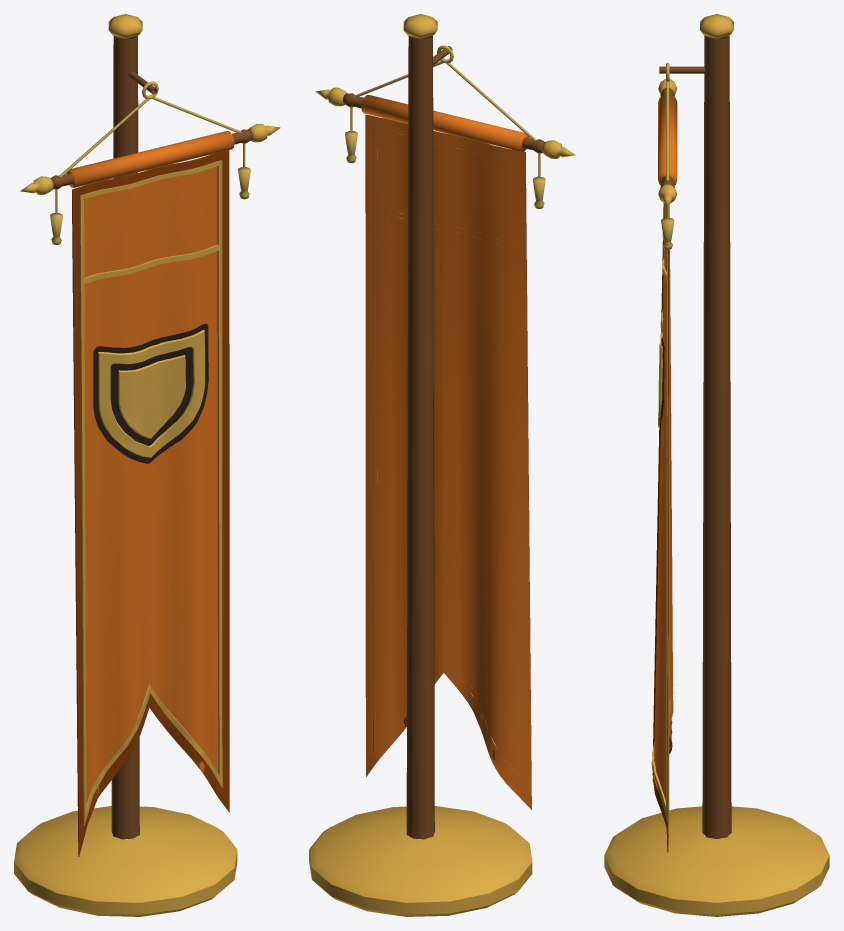
The model's file is km_gonfalon_army-B52A-g0W.glb.
3 views of the same model, side by side, from view 1: azimuth 30°, elevation 25°; view 2: azimuth 150°, elevation 25°; view 3: azimuth 270°, elevation 25° (orthographic).
Visible parts, largest first — view 1: army_cloth, army_stand_foot, army_hem, army_gold_trim, army_sigil_gold, army_stand_pole, army_sigil_backing, army_sleeve, army_cord, army_finials, army_stand_knob, army_tassels; view 2: army_cloth, army_stand_pole, army_stand_foot, army_sleeve, army_hem, army_cord, army_finials, army_stand_knob, army_tassels; view 3: army_stand_pole, army_stand_foot, army_cloth, army_gold_trim, army_hem, army_sleeve, army_stand_knob, army_cord.
Part boxes in pixels (x1,y1,x2,y2): army_cloth: (84,160,223,804); army_stand_foot: (14,806,237,916); army_hem: (72,150,229,856); army_gold_trim: (79,160,222,825); army_sigil_gold: (98,329,205,457); army_stand_pole: (111,35,157,839); army_sigil_backing: (93,323,208,463); army_sleeve: (66,131,234,187); army_cord: (55,81,245,213); army_finials: (20,123,280,194); army_stand_knob: (108,14,142,38); army_tassels: (50,167,250,244); army_cloth: (365,115,531,809); army_stand_pole: (406,35,452,839); army_stand_foot: (309,806,532,916); army_sleeve: (361,95,529,151); army_hem: (366,114,531,802); army_cord: (350,45,540,177); army_finials: (315,87,575,158); army_stand_knob: (403,14,437,38); army_tassels: (345,131,545,208); army_stand_pole: (659,35,731,838); army_stand_foot: (604,806,829,916); army_cloth: (653,203,673,800); army_gold_trim: (651,203,673,821); army_hem: (652,203,672,852); army_sleeve: (658,94,677,185); army_stand_knob: (700,14,733,38); army_cord: (666,62,669,218).
Size of the model in its own units: 0.107 by 0.335 by 0.08.
